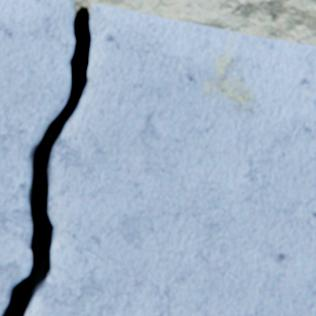broken_brick: (27, 4, 315, 315), (0, 0, 73, 311)
crack: (0, 1, 92, 315)
